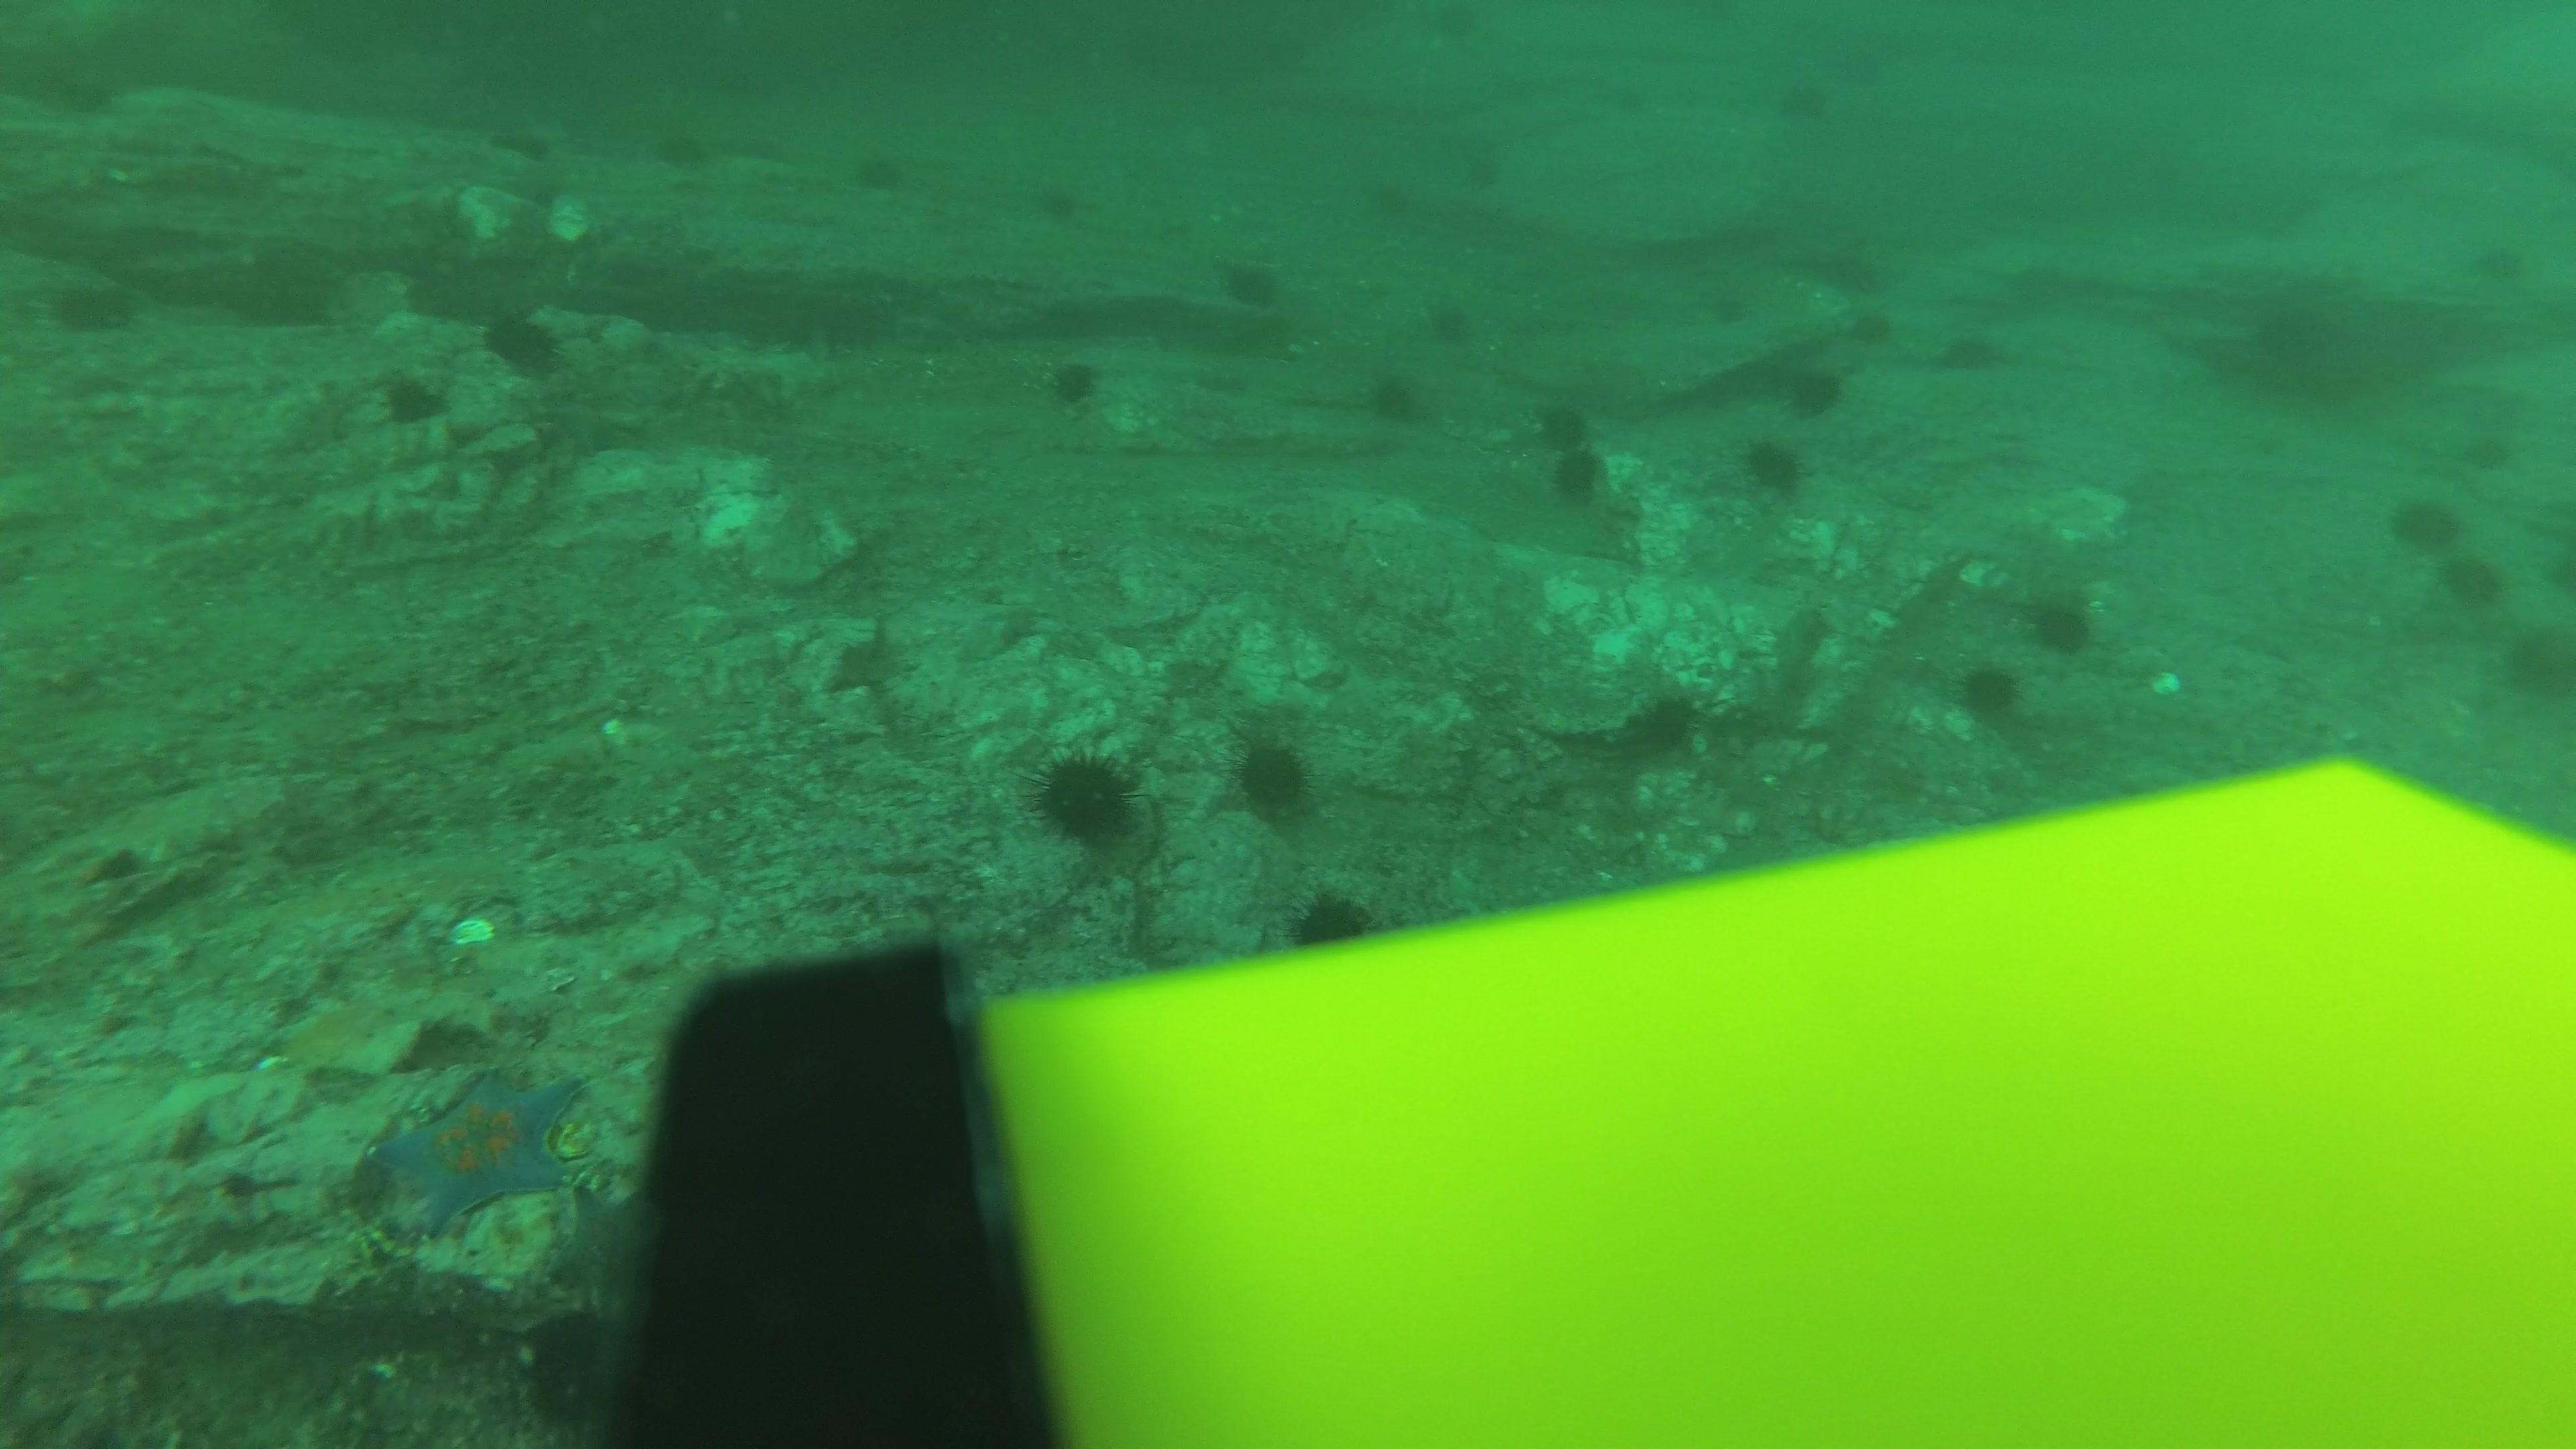echinus: (511, 1302, 644, 1438), (1026, 743, 1146, 849), (230, 239, 345, 331), (1224, 727, 1322, 826), (42, 267, 145, 340), (1283, 883, 1380, 955), (2496, 619, 2572, 706), (478, 303, 566, 377), (1621, 685, 1704, 763), (2019, 582, 2100, 658), (2449, 414, 2530, 483), (2457, 223, 2539, 290), (2387, 488, 2466, 556), (1951, 655, 2026, 725), (373, 364, 451, 430), (1737, 432, 1810, 499), (2434, 548, 2507, 614), (1215, 249, 1288, 313), (1780, 356, 1849, 421), (1529, 395, 1599, 458), (1543, 441, 1610, 504), (1362, 366, 1428, 428), (1936, 324, 2010, 377), (1042, 352, 1108, 412), (640, 133, 702, 189), (483, 119, 547, 173), (849, 142, 911, 196), (1426, 303, 1488, 352), (1451, 145, 1513, 195), (1493, 64, 1555, 113), (1596, 80, 1658, 129), (1771, 76, 1831, 126), (1828, 34, 1888, 83), (1822, 241, 1882, 290), (1833, 304, 1893, 354), (1366, 180, 1426, 230), (1419, 0, 1479, 50), (1023, 179, 1083, 228), (1711, 292, 1771, 340)
starfish: (372, 1062, 591, 1235), (267, 985, 418, 1083), (534, 391, 648, 460)
